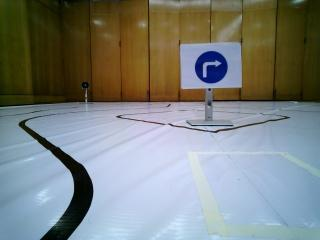right: (180, 46, 241, 86)
